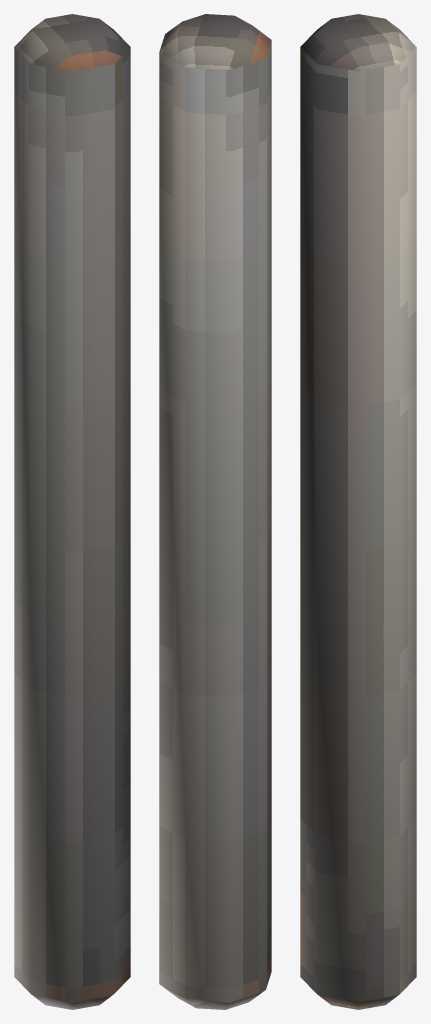
The model's file is item_metal_rod.glb.
The picture shows the model from 3 angles, left to right: view 1: azimuth 90°, elevation 25°; view 2: azimuth 150°, elevation 25°; view 3: azimuth 270°, elevation 25°; orthographic projection.
Parts seen in each view (by area): view 1: MetalRod; view 2: MetalRod; view 3: MetalRod.
Part boxes in pixels (box(x1,y1,x2,y2)): MetalRod: box(14, 14, 130, 1009); MetalRod: box(159, 14, 271, 1009); MetalRod: box(300, 14, 416, 1009).
Size of the model in its own units: 0.1475 by 1.35 by 0.1475.
Materials: 1 (1 with a texture image).
